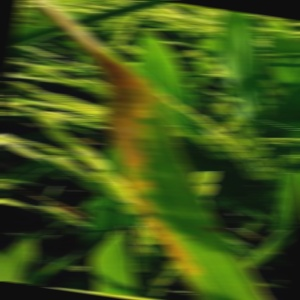Leaf_Blast: (106, 72, 193, 187)
